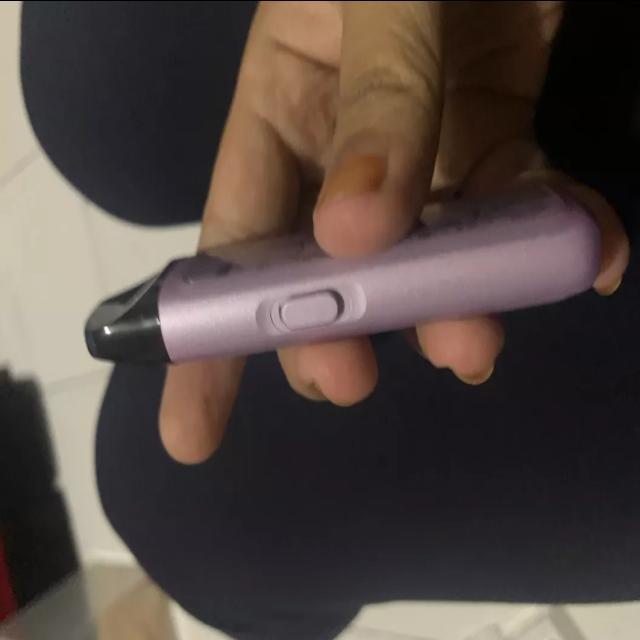Hazard: (85, 174, 601, 368)
